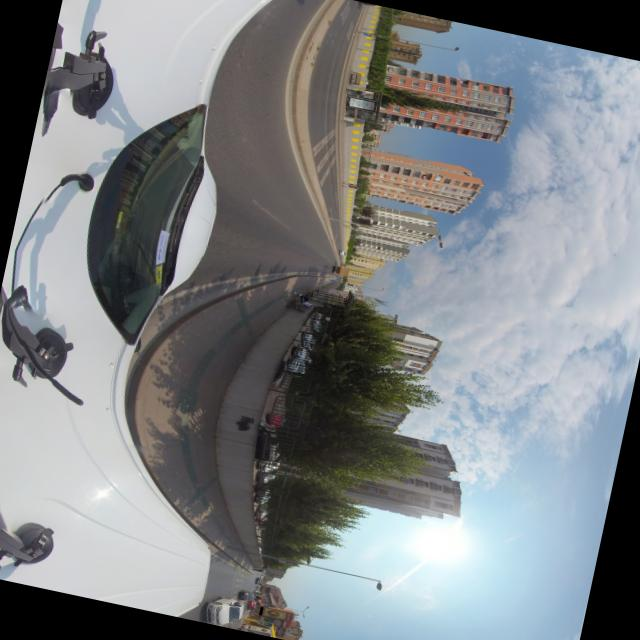SignStore: (257, 606, 262, 615)
